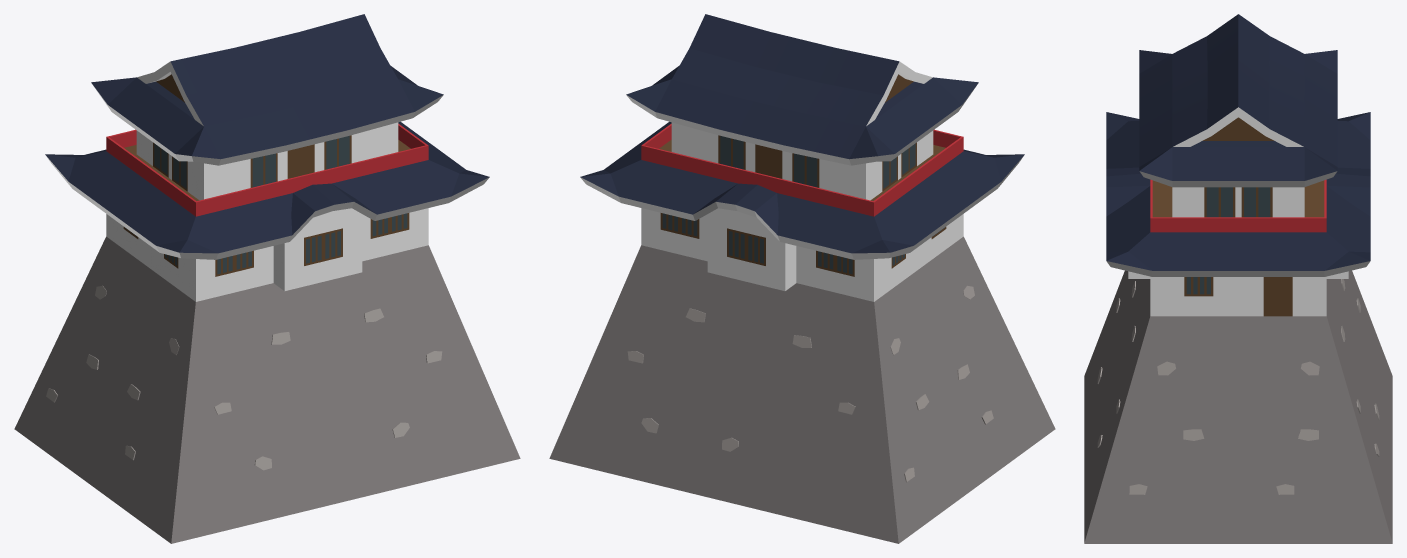
File: japan_tower-japan_small.fbx
3 renders of one model, left to right at view 1: azimuth 30°, elevation 25°; view 2: azimuth 150°, elevation 25°; view 3: azimuth 270°, elevation 25°, orthographic.
Visible parts, largest first — view 1: japan_tower_japan_small; view 2: japan_tower_japan_small; view 3: japan_tower_japan_small.
Boxes of the visible parts, left/top/right/bottom form: japan_tower_japan_small: left=14, top=14, right=520, bottom=543; japan_tower_japan_small: left=549, top=14, right=1055, bottom=543; japan_tower_japan_small: left=1084, top=14, right=1392, bottom=543.
Bounding box in the file's own units: 180 × 200 × 140.
